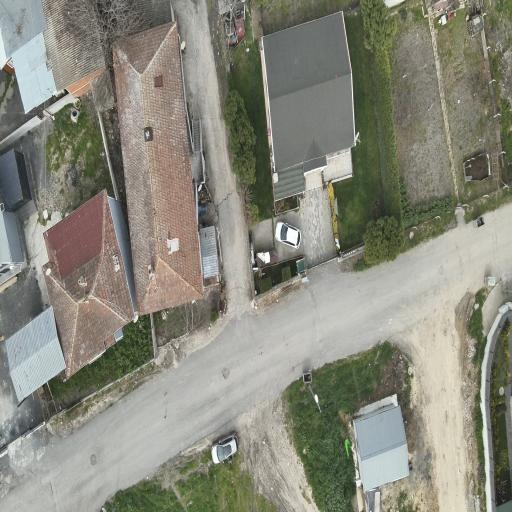car: (212, 432, 238, 464), (275, 222, 301, 248)
